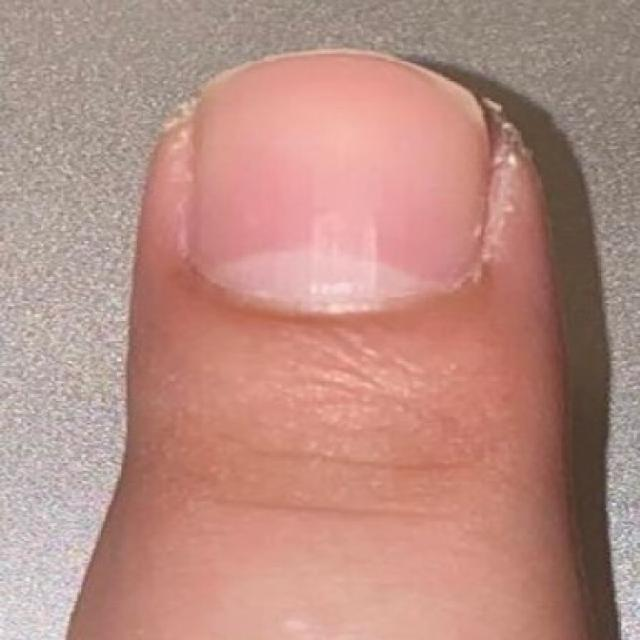Nail: (191, 52, 491, 312)
